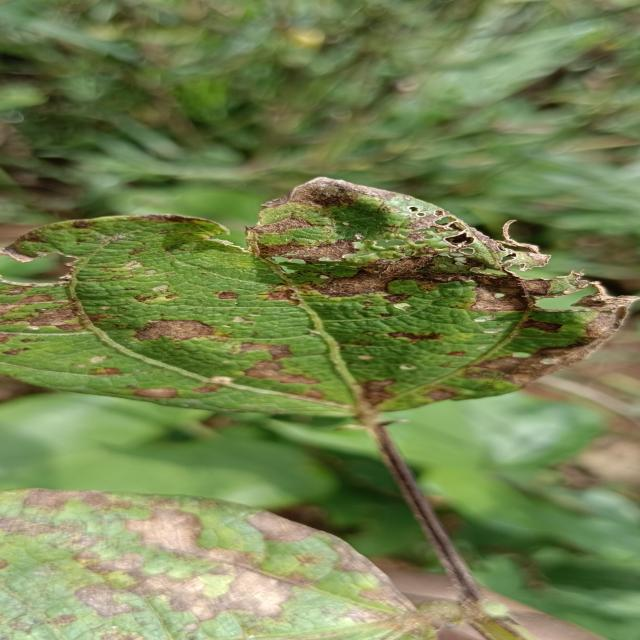Black gram_leaf spot: (0, 175, 640, 424), (4, 488, 439, 640)
